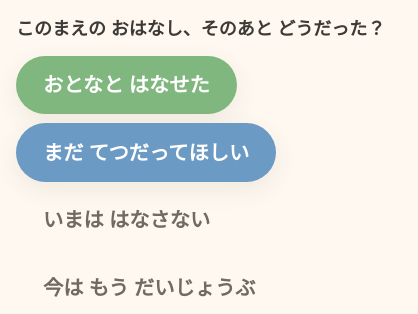
shows the confirmed result for need_help: つぎに どうするか、いっしょに かんがえよう。
Click the button "まだ てつだってほしい" at [146, 152], box [16,123,276,182]
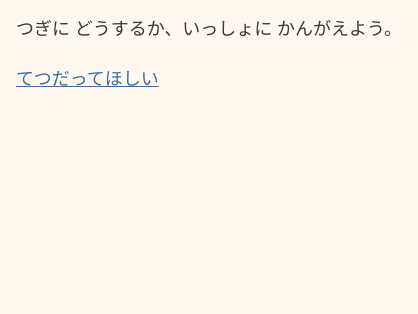
Expected: the message reads "つぎに どうするか、いっしょに かんがえよう。", [16,16,402,40]
